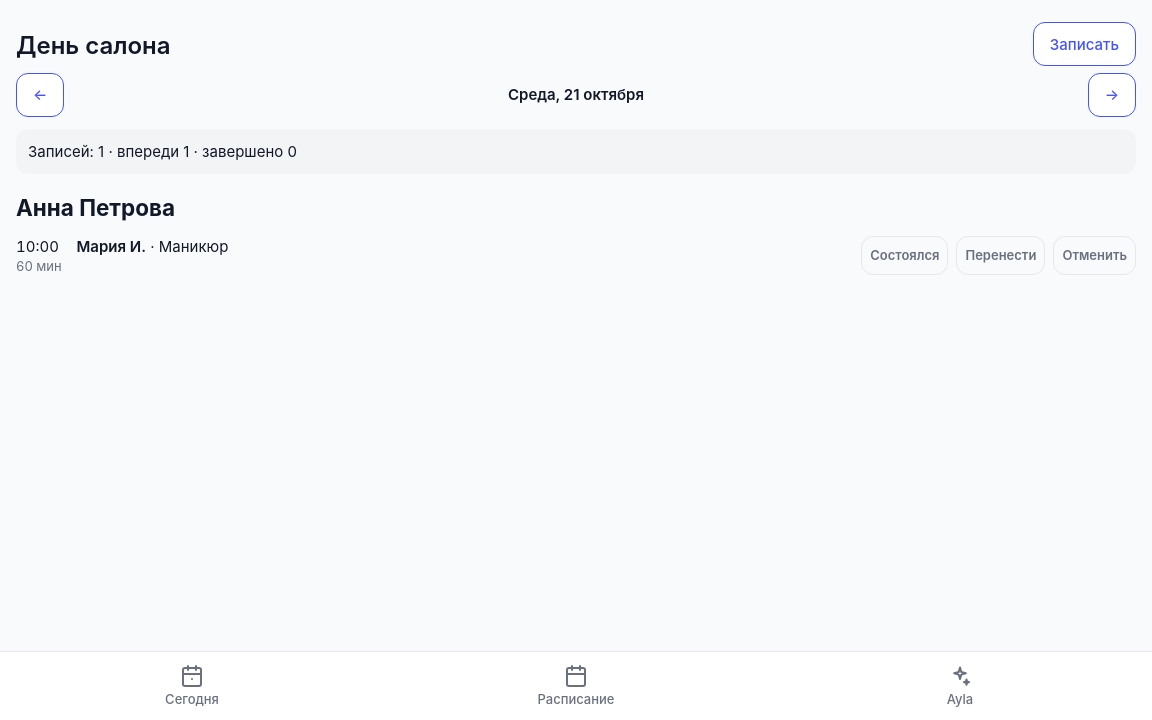
Scenario: слова человеку отдельно от внутренней причины › есть hint — человек читает слова владельца
Click the button with aria-label "Отменить визит: Мария": (1095, 256) [1053,236,1136,275]
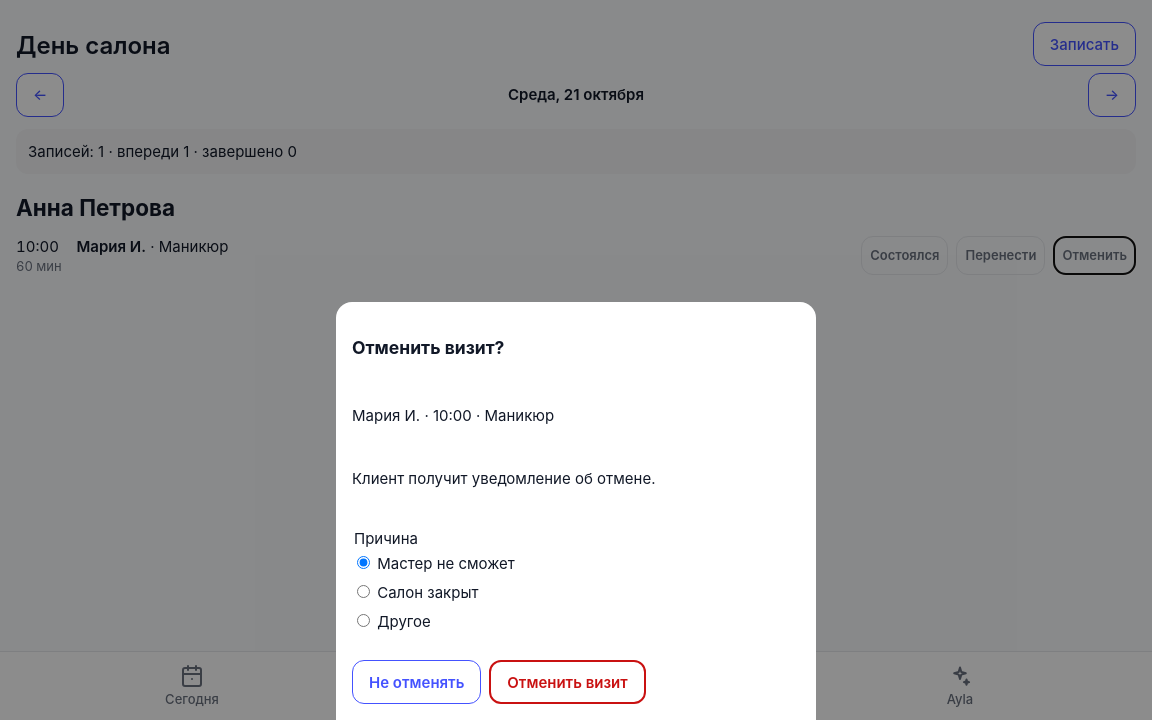
Click the button "Отменить визит": (568, 682) [489,660,646,704]
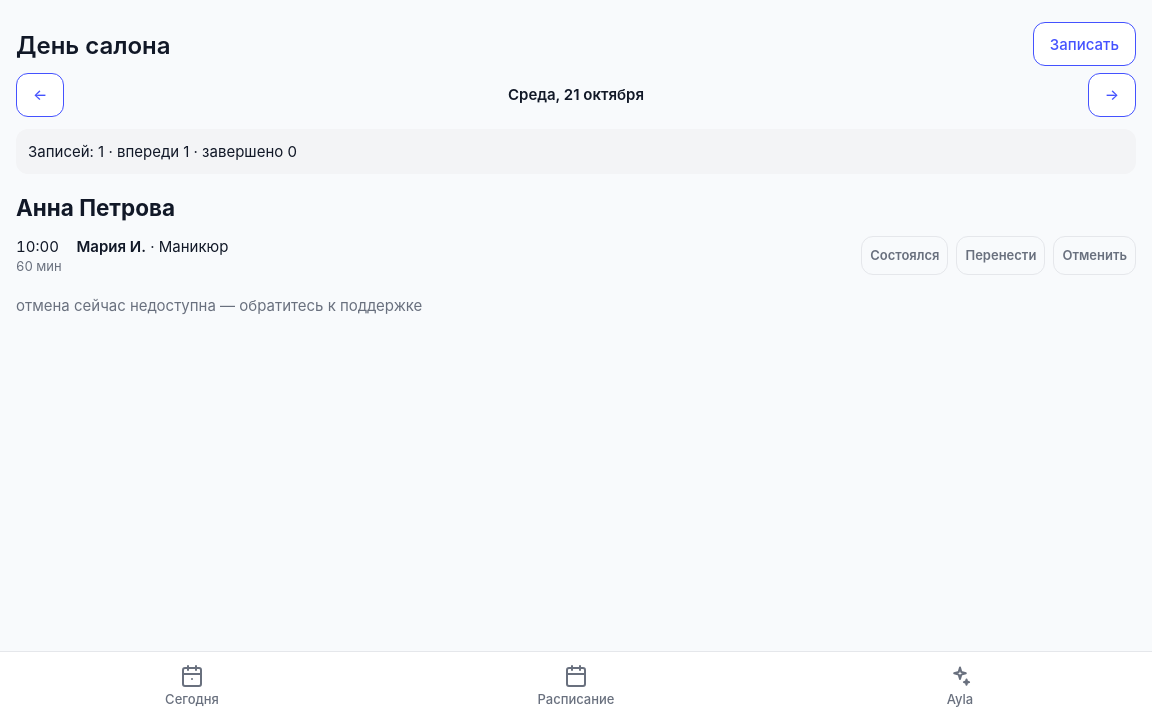
Check: the text "отмена сейчас недоступна — обратитесь к поддержке" is shown, box [16,296,422,315]
